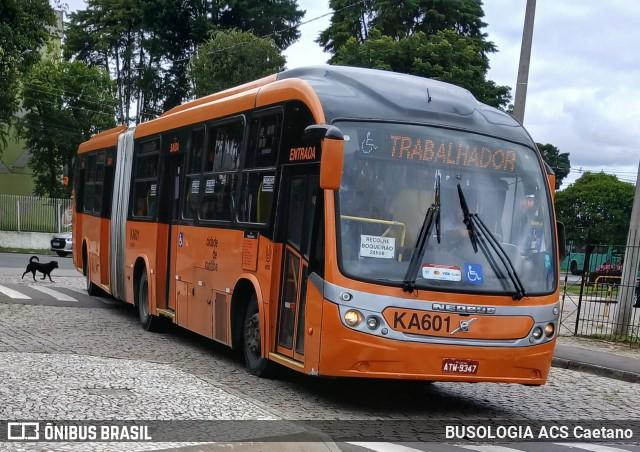TRABALHADOR: (384, 128, 520, 176)
